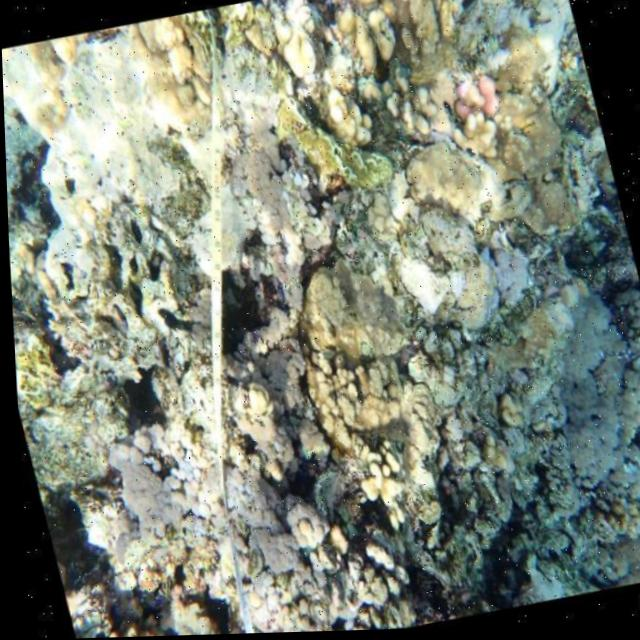Bleached Coral: (81, 407, 342, 638), (471, 268, 640, 562), (203, 85, 338, 289), (389, 53, 544, 187)
